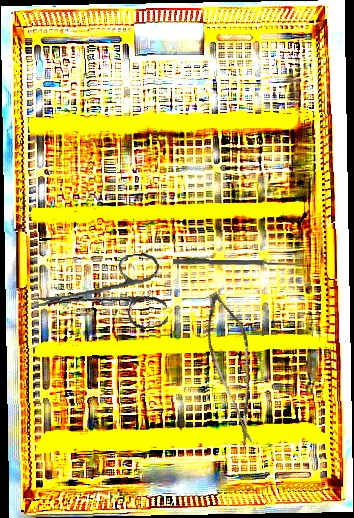Iris Scissors: (28, 251, 170, 342)
Micro Scissor: (181, 287, 289, 449)
Surgical Spoon: (172, 258, 304, 268)
